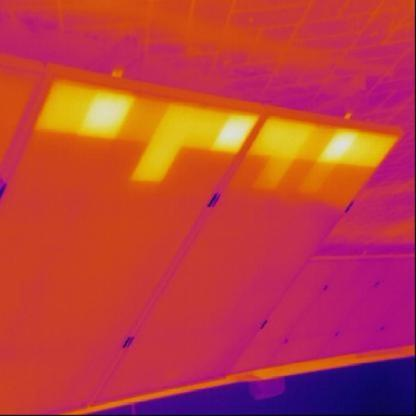anomaly: (131, 105, 255, 185), (34, 78, 136, 141), (257, 113, 310, 186), (319, 127, 403, 170)
